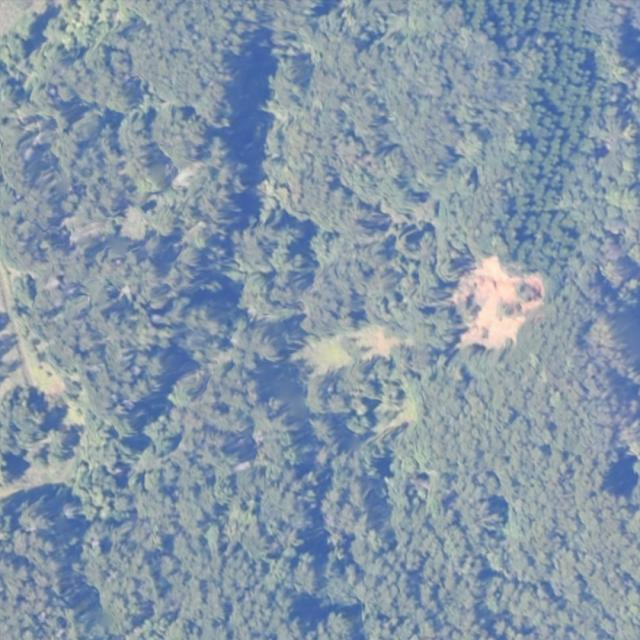landslide: (453, 256, 546, 350)
